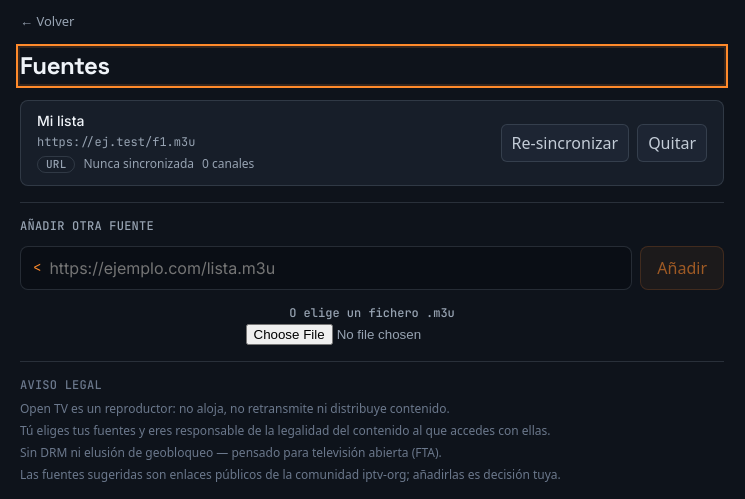
Fuentes — quitar (confirmación en dos pasos) › (d) tras quitar con éxito, refetcha fuentes() y notifica alFuentesCambiaron con la lista fresca
What coordinates should you click on to do the following:
click the button "Quitar"
I would click on:
 (672, 143)
Its box is x1=637 y1=124 x2=707 y2=162.
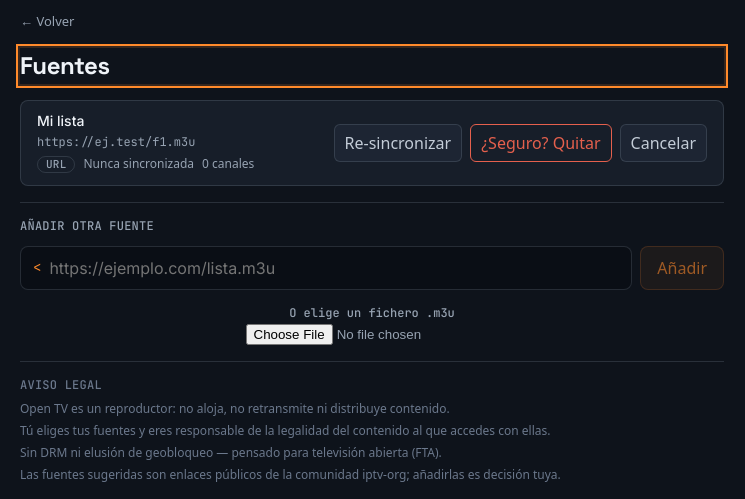
What coordinates should you click on to do the following:
click the button "¿Seguro? Quitar"
I would click on:
 (541, 143)
Its box is x1=470 y1=124 x2=612 y2=162.
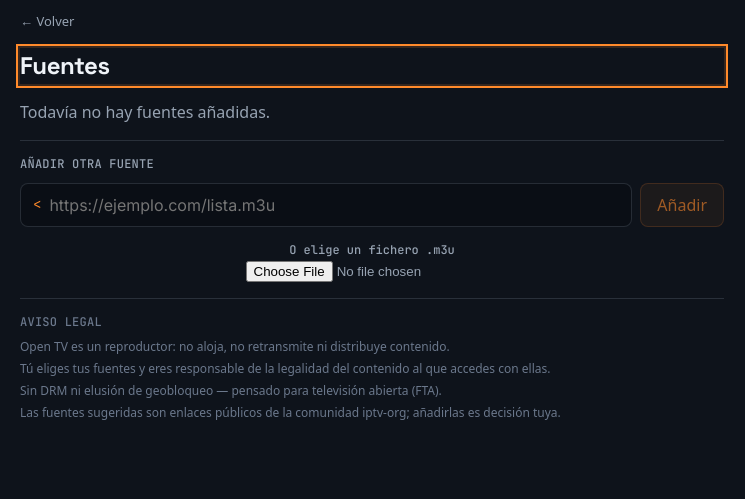
expect the text "Todavía no hay fuentes añadidas." is shown: met, box x1=20 y1=100 x2=270 y2=122
